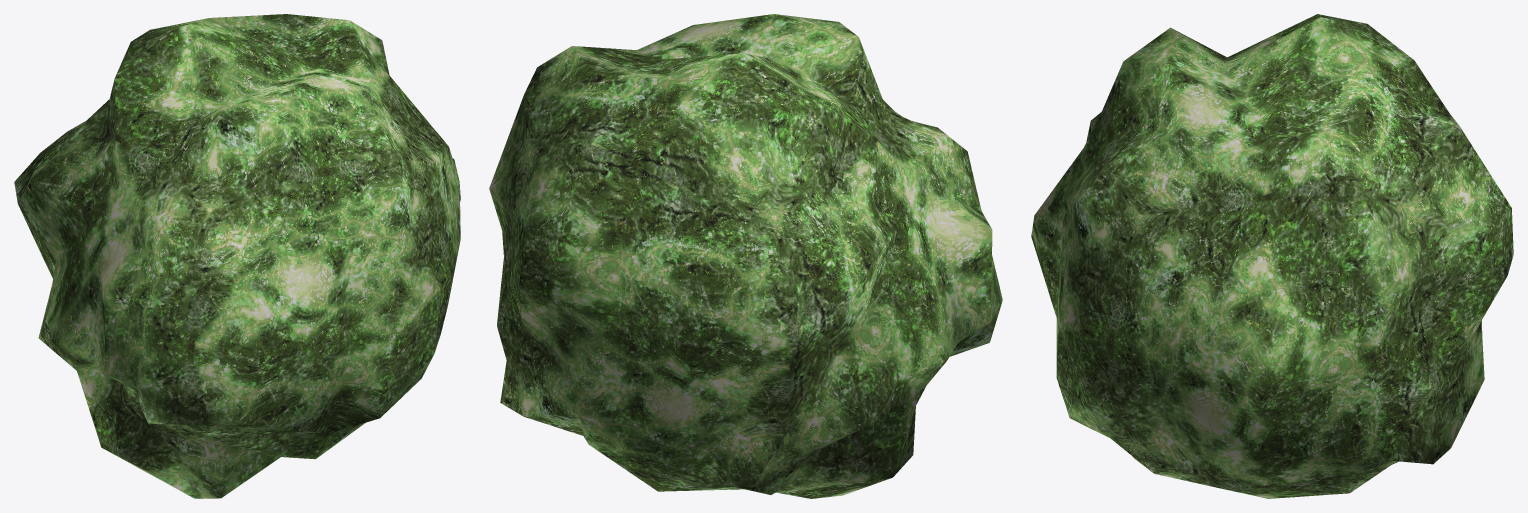
The model's file is asteroid_acid_large_s02_l1.fbx.
3 views of the same model, side by side, from view 1: azimuth 30°, elevation 25°; view 2: azimuth 150°, elevation 25°; view 3: azimuth 270°, elevation 25° (orthographic). The views are drawn at different scales.
Parts seen in each view (by area): view 1: mesh_node; view 2: mesh_node; view 3: mesh_node.
Part boxes in pixels (left/top/right/bottom): mesh_node: left=14, top=14, right=460, bottom=498; mesh_node: left=489, top=14, right=1002, bottom=498; mesh_node: left=1031, top=14, right=1513, bottom=498.
Bounding box in the file's own units: 116 × 116 × 108.
Materials: 1 (1 with a texture image).
